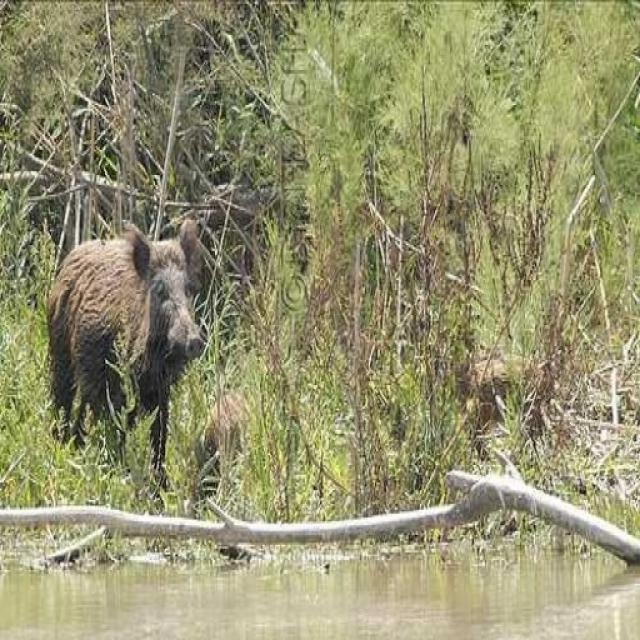pig: (26, 202, 296, 543)
